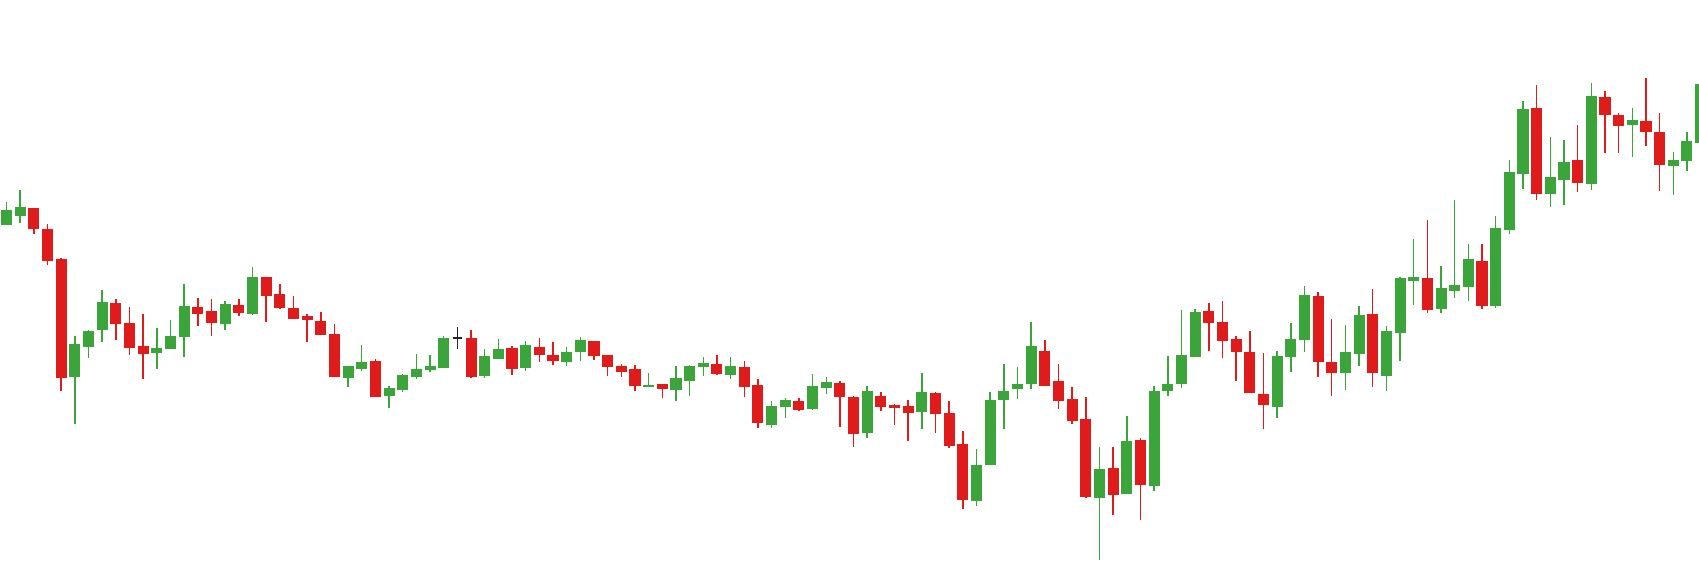buy: (955, 417, 1107, 566)
